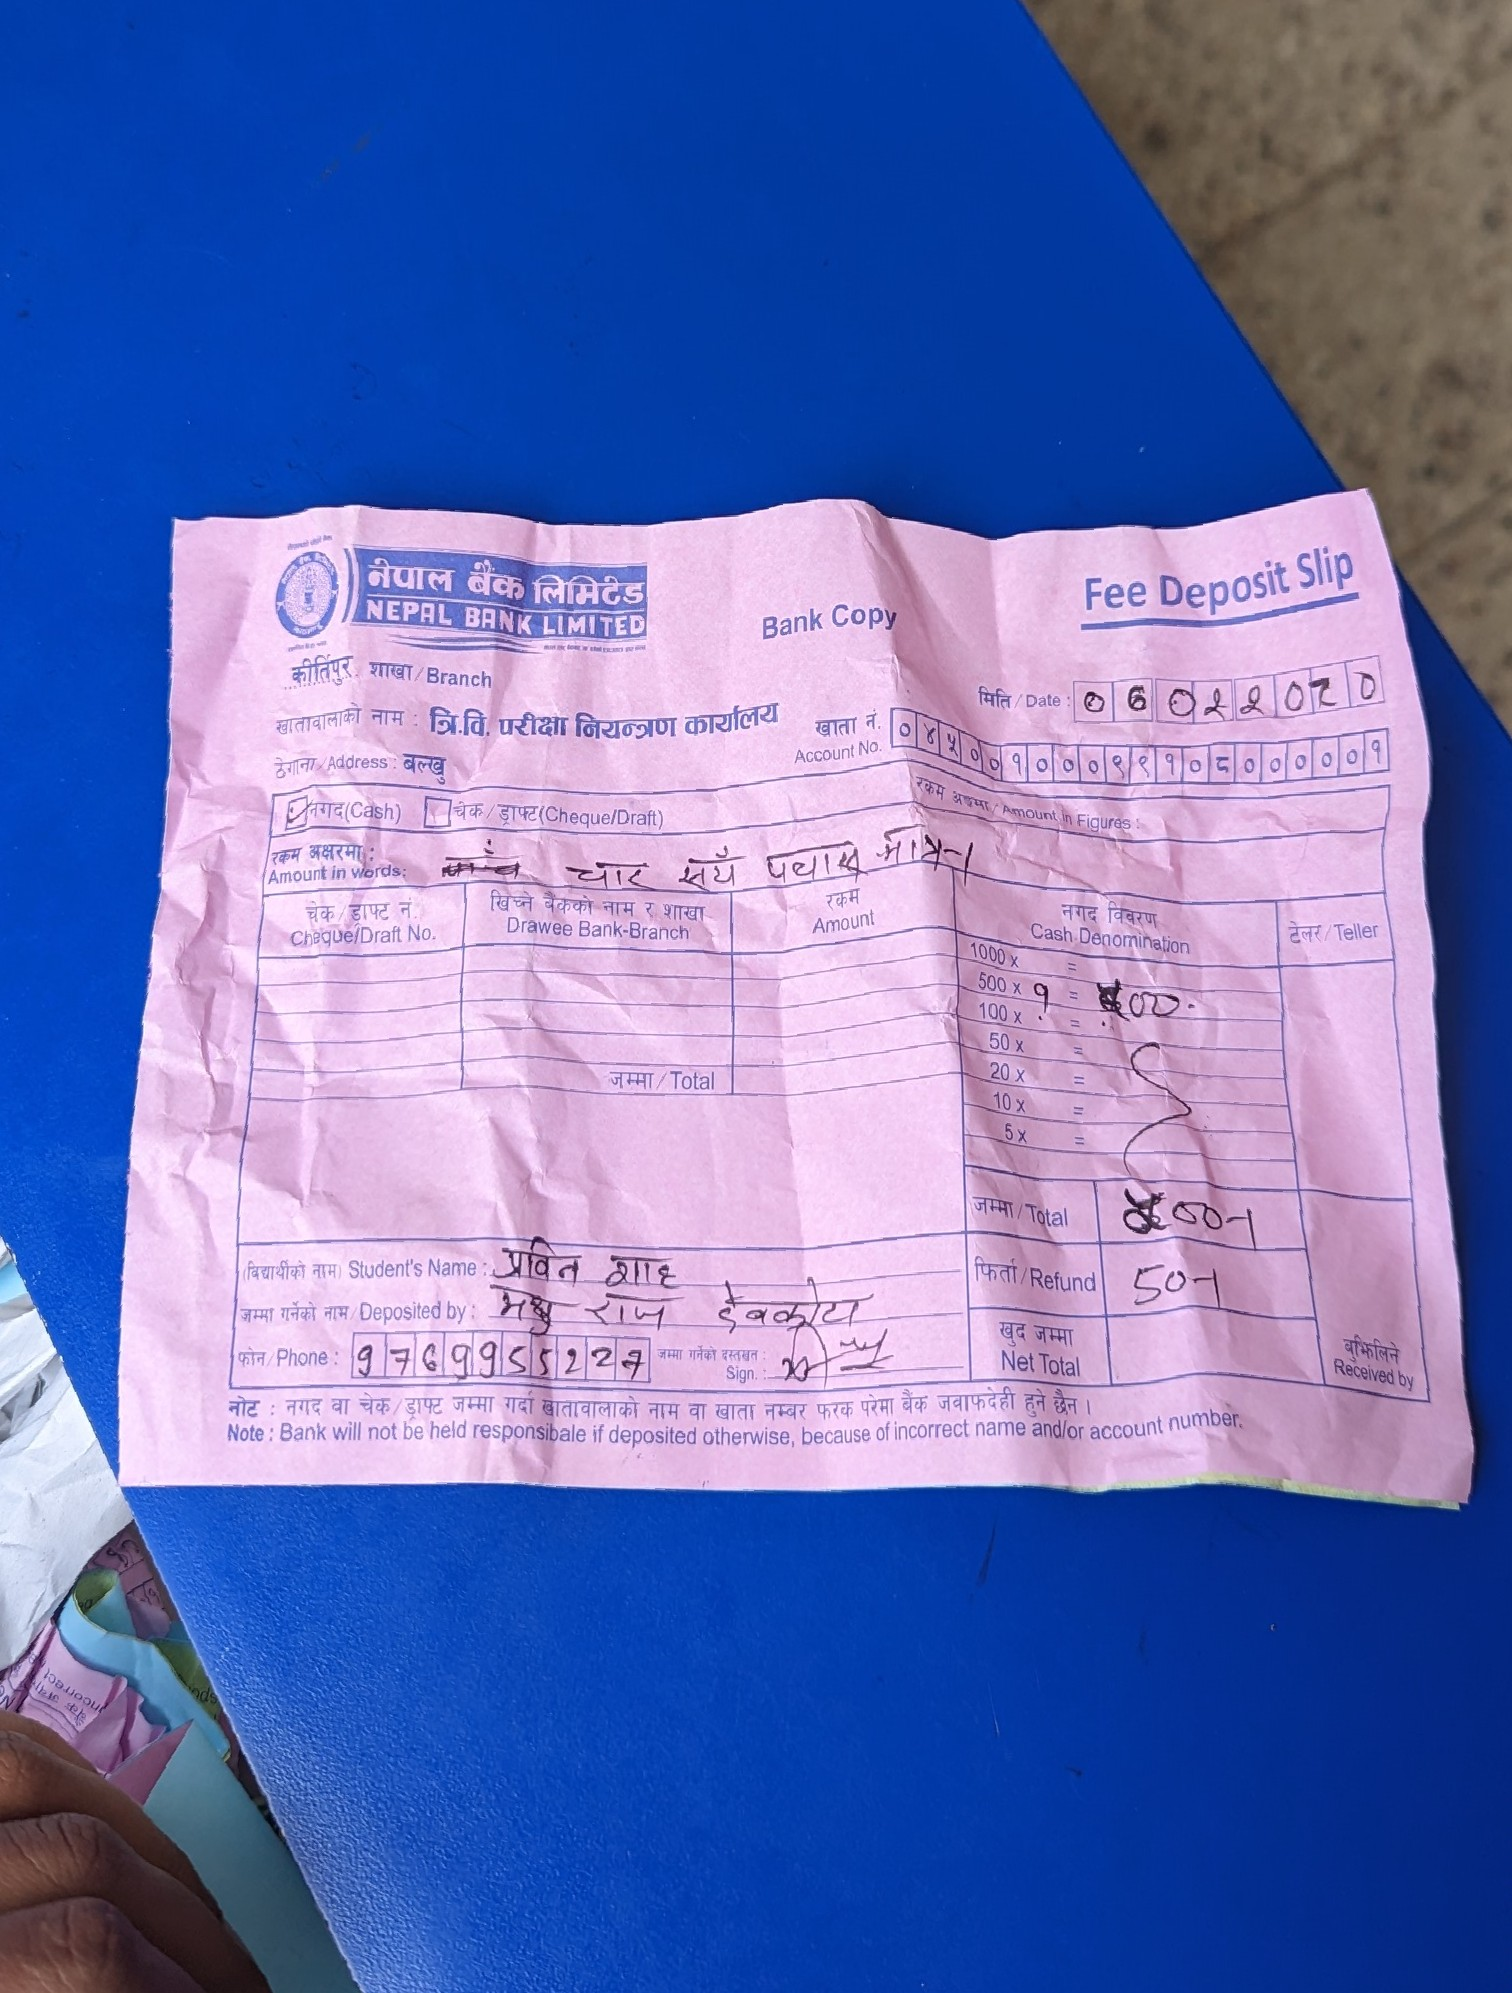text: (346, 1332, 650, 1382), (708, 1277, 875, 1332), (1239, 669, 1396, 716), (777, 1332, 913, 1385), (1120, 1193, 1229, 1240), (758, 838, 870, 885), (494, 1231, 586, 1285), (1090, 973, 1190, 1016), (556, 850, 651, 892), (1120, 1259, 1199, 1310), (673, 840, 746, 892), (599, 1247, 686, 1289), (1074, 673, 1158, 716), (885, 818, 955, 869), (1156, 675, 1240, 716), (584, 1289, 675, 1326), (491, 1286, 562, 1332), (1021, 967, 1069, 1015)
